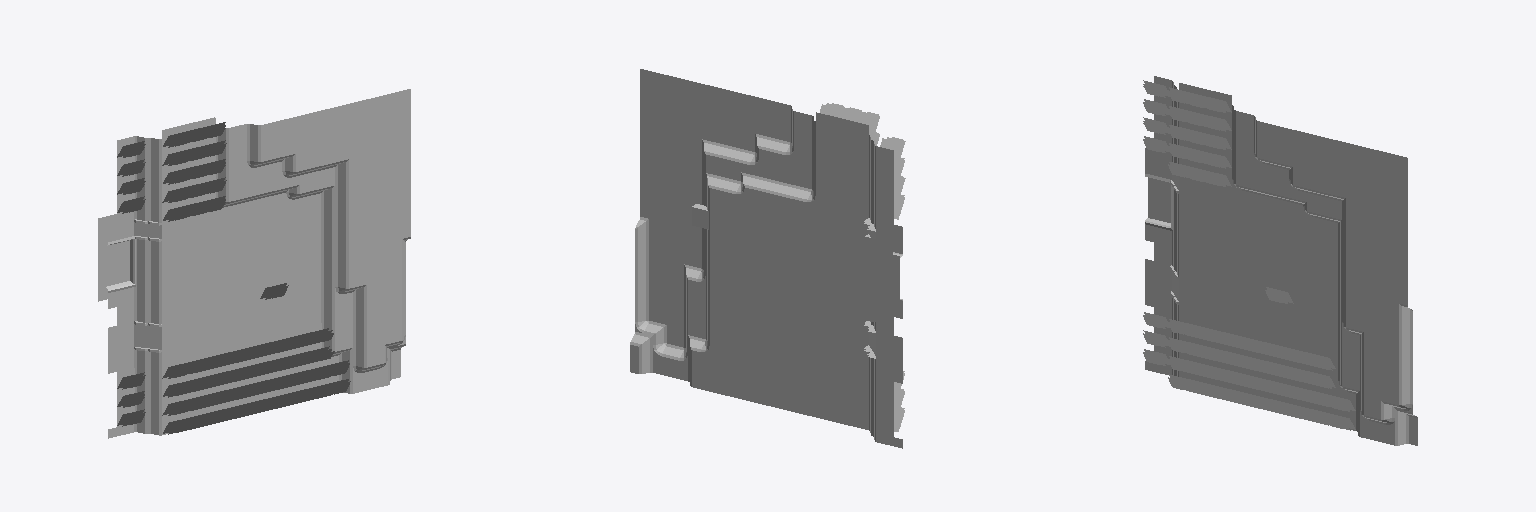
File: Plat_full_06_17.obj
3 views of the same model, side by side, from view 1: azimuth 30°, elevation 25°; view 2: azimuth 150°, elevation 25°; view 3: azimuth 330°, elevation 25° (orthographic).
Parts seen in each view (by area): view 1: map; view 2: map; view 3: map.
Part boxes in pixels (left/top/right/bottom): map: left=98, top=89, right=410, bottom=438; map: left=630, top=69, right=905, bottom=448; map: left=1143, top=76, right=1417, bottom=445.
Bounding box in the file's own units: 32 × 33.12 × 6.64.